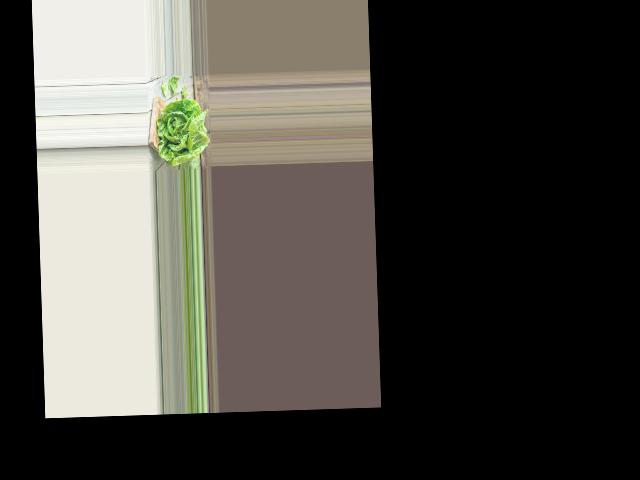lettuce: (153, 101, 209, 168)
